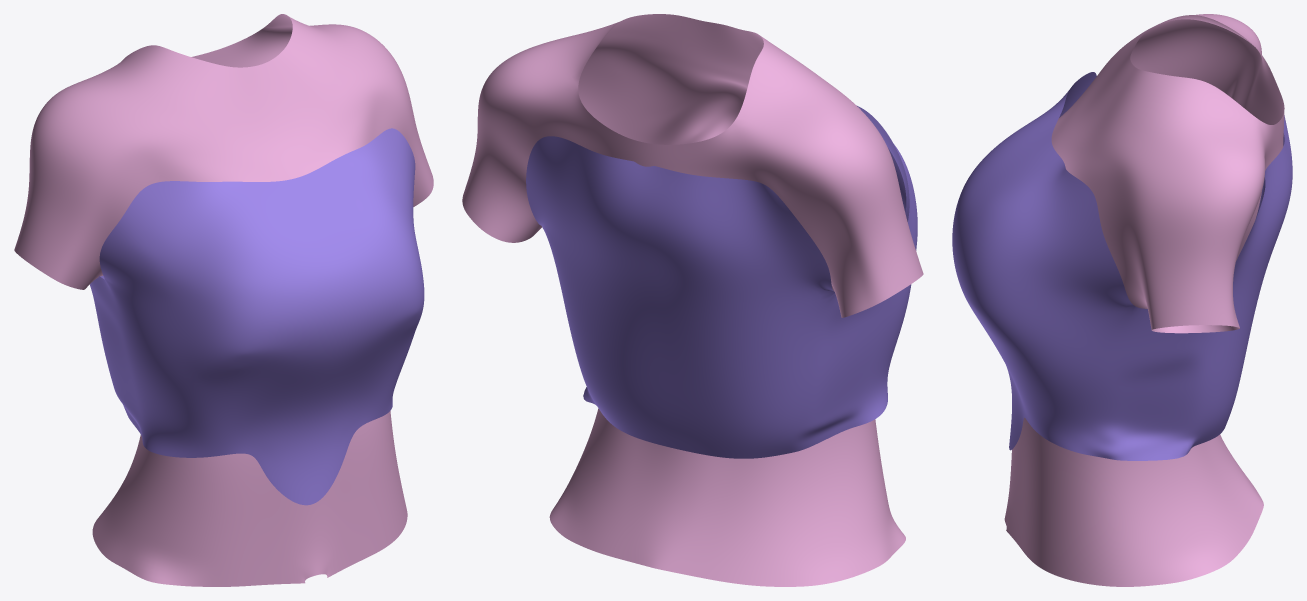
3 views of the same model, side by side, from view 1: azimuth 30°, elevation 25°; view 2: azimuth 150°, elevation 25°; view 3: azimuth 270°, elevation 25° (orthographic). The views are drawn at different scales.
Parts seen in each view (by area): view 1: face, face.004; view 2: face, face.004; view 3: face, face.004.
Boxes of the visible parts, x1,y1,x2,y2 form: face: (14,14,433,586); face.004: (90,128,424,505); face: (462,14,923,586); face.004: (526,105,917,458); face: (1004,14,1284,586); face.004: (952,72,1292,460).
Size of the model in its own units: 0.3592 by 0.4091 by 0.2626.
